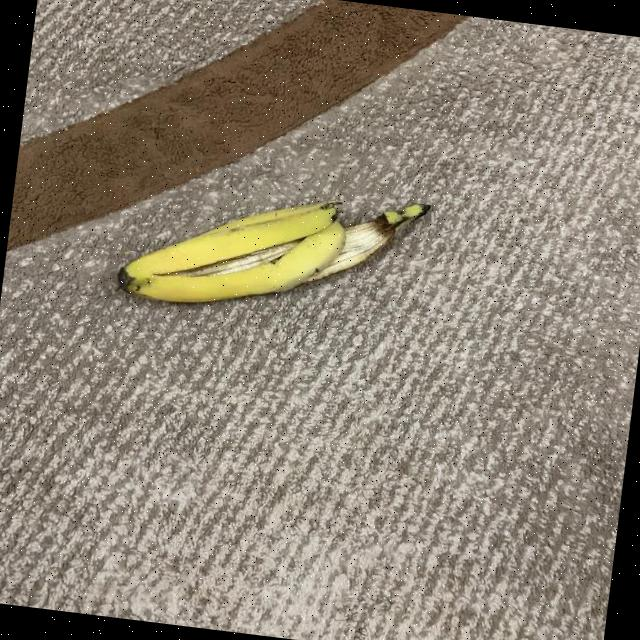banana-peel: (114, 164, 430, 333)
